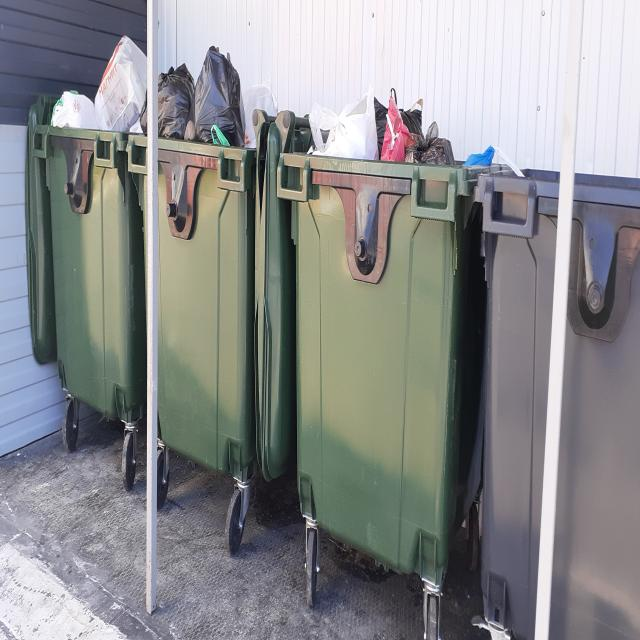bin: (159, 147, 639, 640), (27, 128, 142, 434)
trash: (306, 94, 496, 165), (159, 37, 279, 146), (48, 29, 148, 133)
